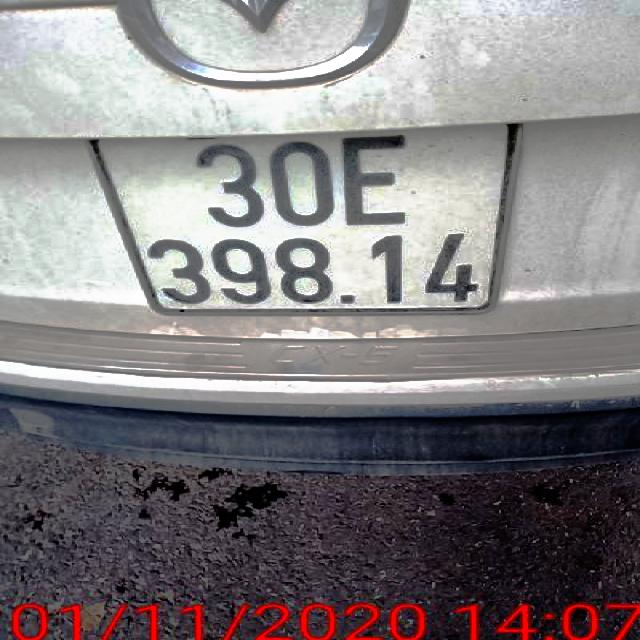license_plate: (98, 122, 521, 313)
